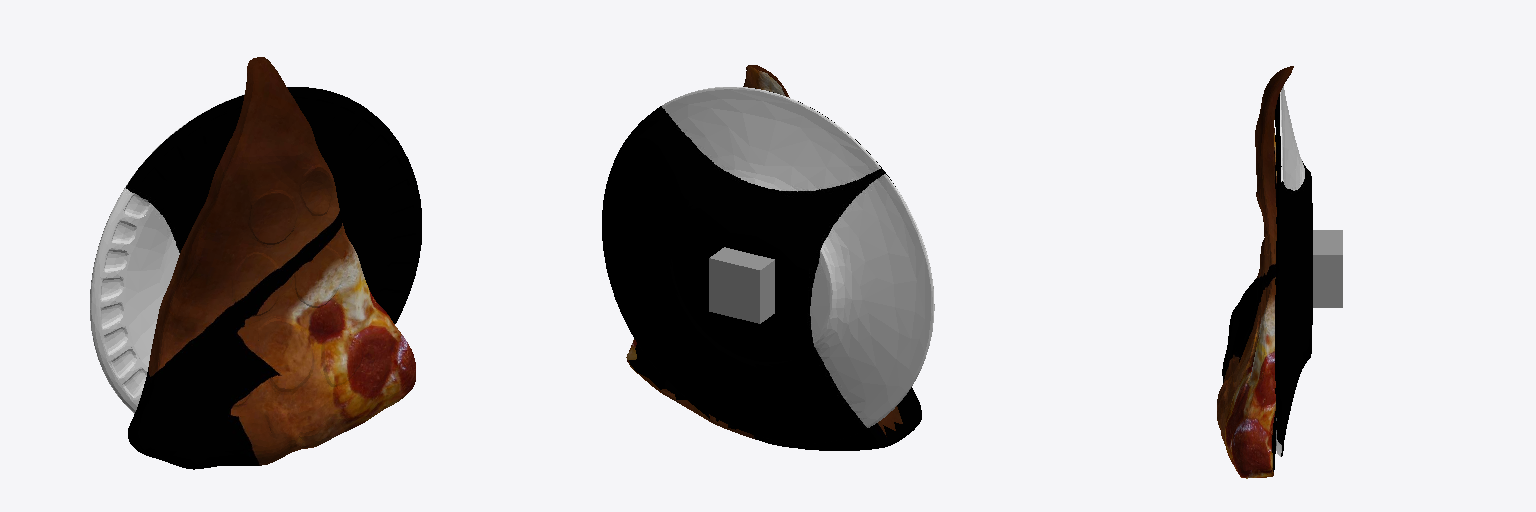
3 views of the same model, side by side, from view 1: azimuth 30°, elevation 25°; view 2: azimuth 150°, elevation 25°; view 3: azimuth 270°, elevation 25° (orthographic).
Visible parts, largest first — view 1: 13917_Pepperoni_v2, plate; view 2: plate, 13917_Pepperoni_v2, Cube; view 3: 13917_Pepperoni_v2, plate, Cube.
Part boxes in pixels (bbox=[...]): 13917_Pepperoni_v2: bbox=[128, 57, 415, 469]; plate: bbox=[90, 87, 421, 413]; plate: bbox=[602, 87, 934, 443]; 13917_Pepperoni_v2: bbox=[626, 65, 921, 450]; Cube: bbox=[709, 247, 774, 323]; 13917_Pepperoni_v2: bbox=[1217, 66, 1293, 478]; plate: bbox=[1275, 86, 1312, 456]; Cube: bbox=[1313, 230, 1342, 307].
Size of the model in its own units: 13 by 14.36 by 4.27.
Materials: 3 (2 with a texture image).